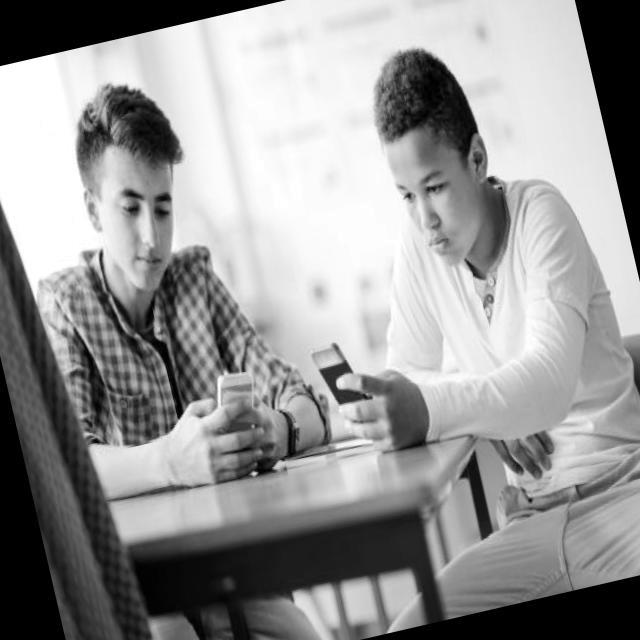phone: (310, 336, 368, 409), (209, 364, 265, 436)
